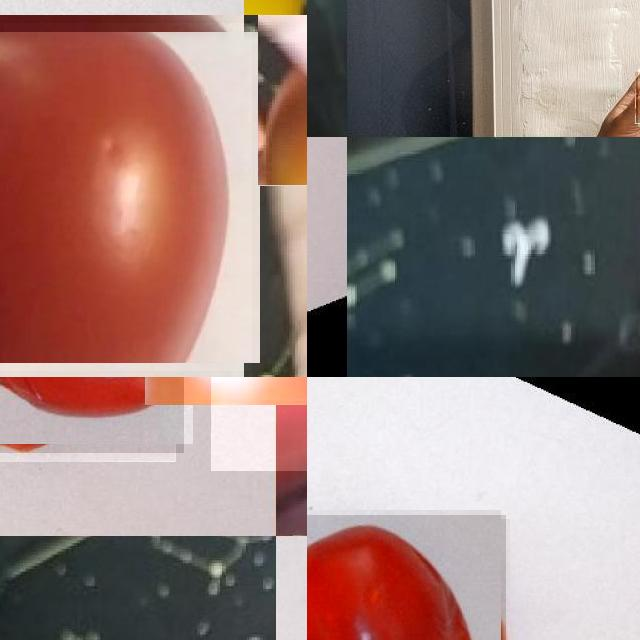Fresh Tomato: (0, 23, 252, 371)
Rotten Tomato: (307, 515, 506, 640), (0, 377, 184, 453)
